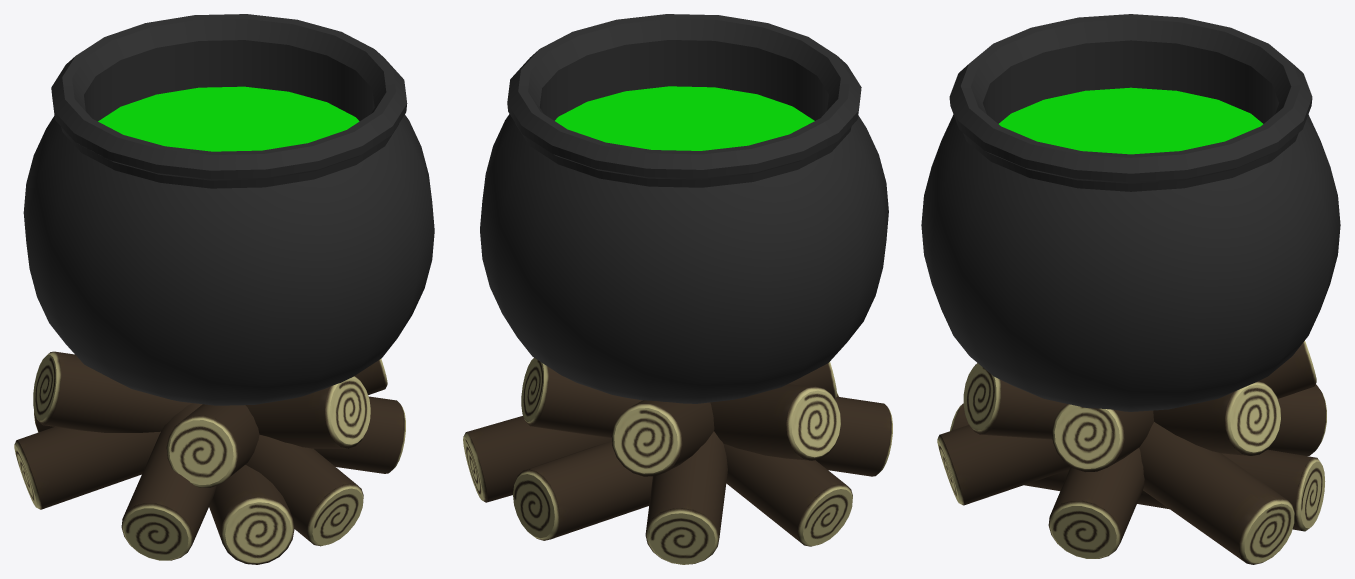
The model's file is Cauldron.fbx.
3 renders of one model, left to right at view 1: azimuth 30°, elevation 25°; view 2: azimuth 150°, elevation 25°; view 3: azimuth 270°, elevation 25°, orthographic.
Parts seen in each view (by area): view 1: pSphere1, pDisc1, pCylinder20, pCylinder19, pCylinder21, pCylinder18, pCylinder16, pCylinder15, pCylinder17; view 2: pSphere1, pDisc1, pCylinder18, pCylinder15, pCylinder19, pCylinder20, pCylinder16, pCylinder17, pCylinder21; view 3: pSphere1, pDisc1, pCylinder17, pCylinder21, pCylinder16, pCylinder20, pCylinder18, pCylinder19, pCylinder15.
Part boxes in pixels (box(x1,y1,x2,y2)): pSphere1: box(23, 14, 434, 405); pDisc1: box(98, 86, 359, 151); pCylinder20: box(33, 351, 405, 473); pCylinder19: box(14, 359, 387, 509); pCylinder21: box(245, 434, 363, 546); pCylinder18: box(121, 403, 216, 560); pCylinder16: box(34, 376, 370, 448); pCylinder15: box(209, 465, 294, 564); pCylinder17: box(166, 404, 259, 487); pSphere1: box(480, 14, 888, 403); pDisc1: box(555, 86, 814, 150); pCylinder18: box(521, 358, 892, 476); pCylinder15: box(513, 393, 838, 540); pCylinder19: box(723, 444, 852, 546); pCylinder20: box(710, 384, 840, 460); pCylinder16: box(645, 431, 727, 564); pCylinder17: box(463, 362, 836, 502); pCylinder21: box(611, 400, 714, 476); pSphere1: box(921, 14, 1340, 411); pDisc1: box(999, 87, 1262, 154); pCylinder17: box(1139, 422, 1294, 564); pCylinder21: box(937, 341, 1316, 505); pCylinder16: box(963, 363, 1326, 455); pCylinder20: box(1048, 448, 1144, 558); pCylinder18: box(1153, 381, 1281, 455); pCylinder19: box(1052, 404, 1153, 471); pCylinder15: box(950, 403, 1325, 531).
Bounding box in the file's own units: 169 × 181 × 166.
Materials: 3 (1 with a texture image).
